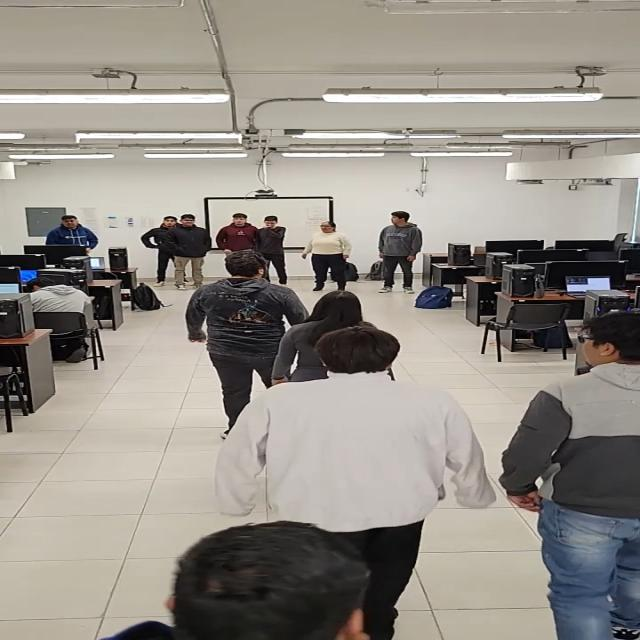Persona: (205, 328, 494, 640), (498, 313, 640, 640), (113, 515, 386, 640), (186, 251, 318, 440), (270, 291, 390, 386), (160, 214, 212, 291), (377, 211, 422, 295), (140, 216, 194, 286), (301, 221, 354, 292), (251, 216, 290, 288), (215, 212, 261, 261)
